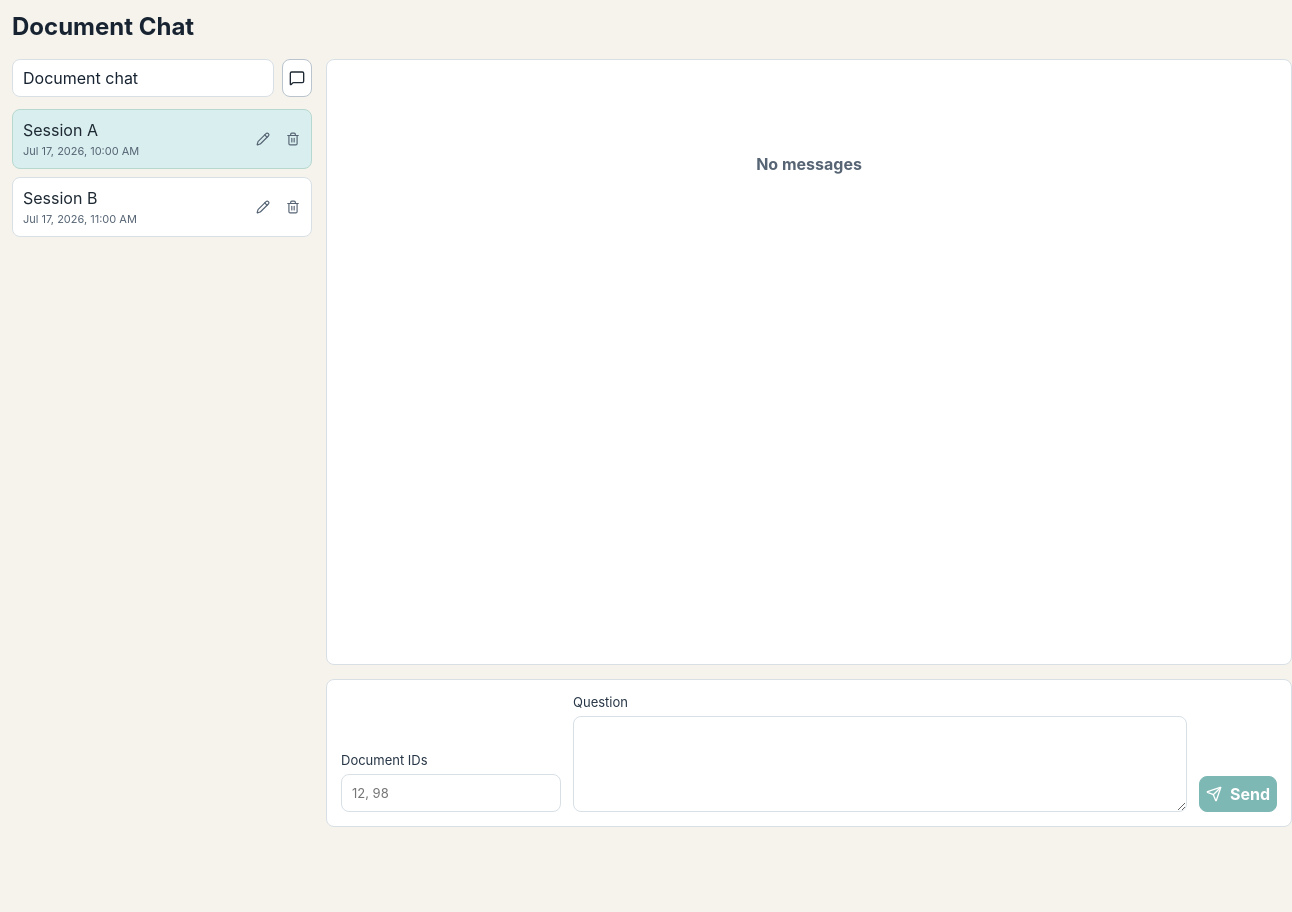
Test case: <DocumentChat> request ownership › rejects old generations when navigation returns from A to B to A
The width and height of the screenshot is (1292, 912).
Check: the button titled "Session A" is shown, box [13,110,249,168]
Click the button titled "Session B" at (131, 207), box [13,178,249,236]
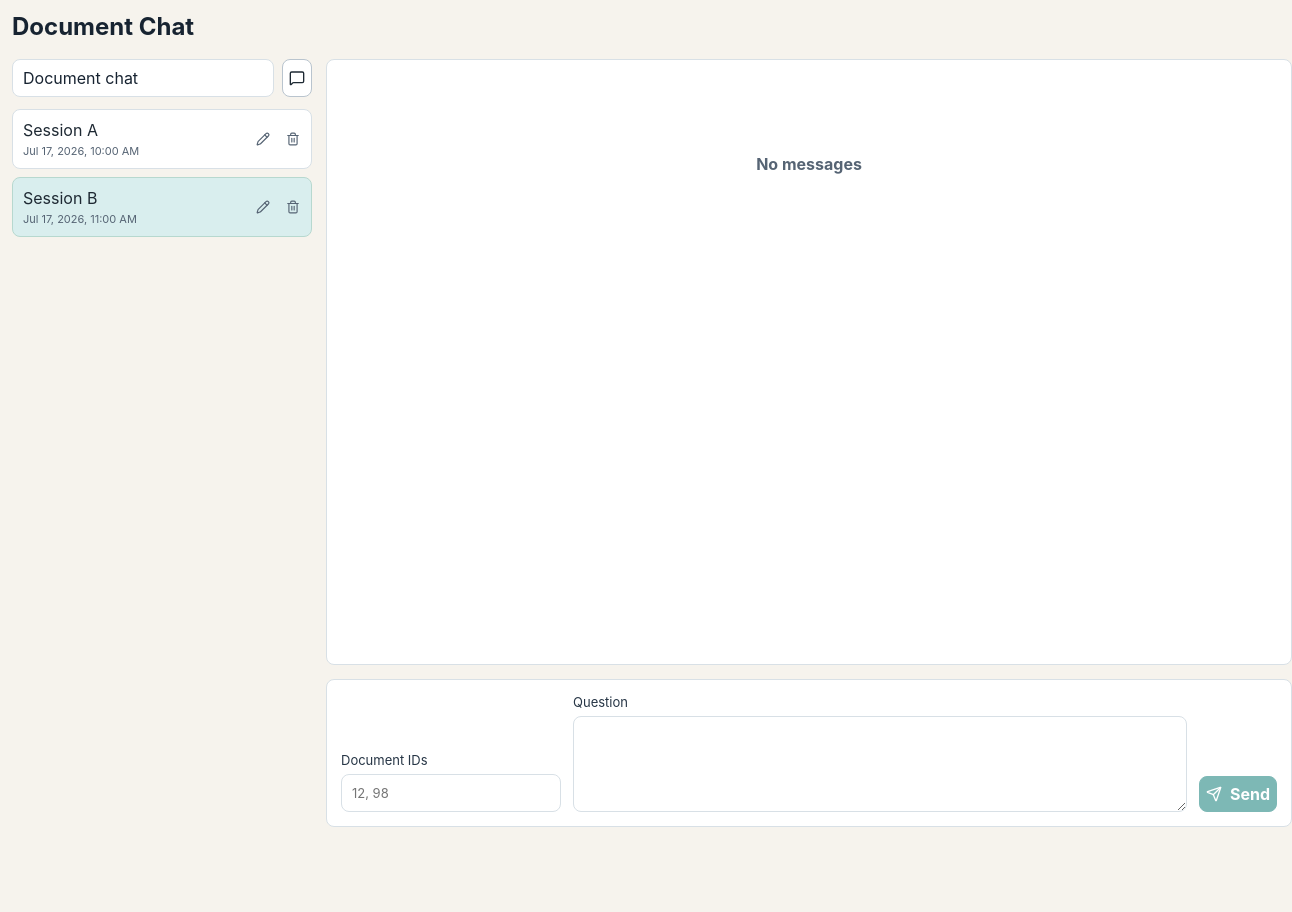
Click the button titled "Session A" at (131, 139), box [13,110,249,168]
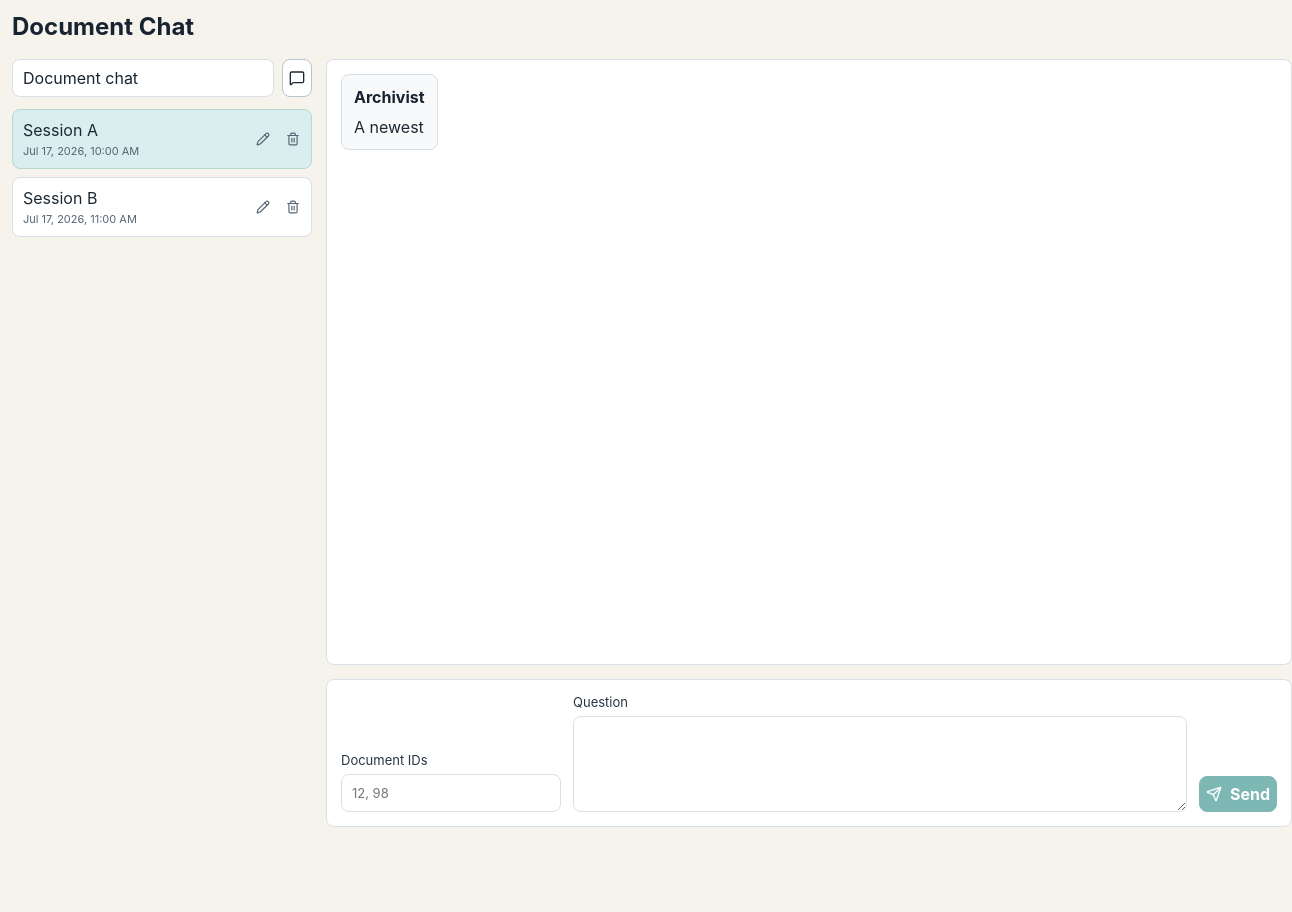
Check: the text "A newest" is shown, box [354,117,424,137]
